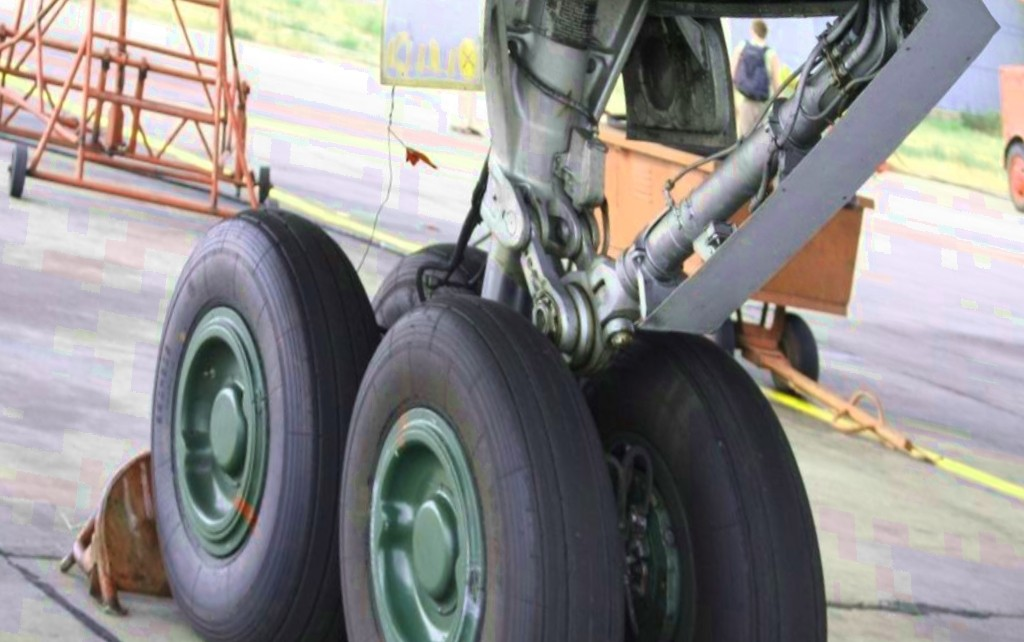chock: (47, 437, 193, 628)
wheel: (278, 267, 698, 642), (108, 182, 415, 642), (526, 313, 902, 642), (363, 226, 505, 345)
